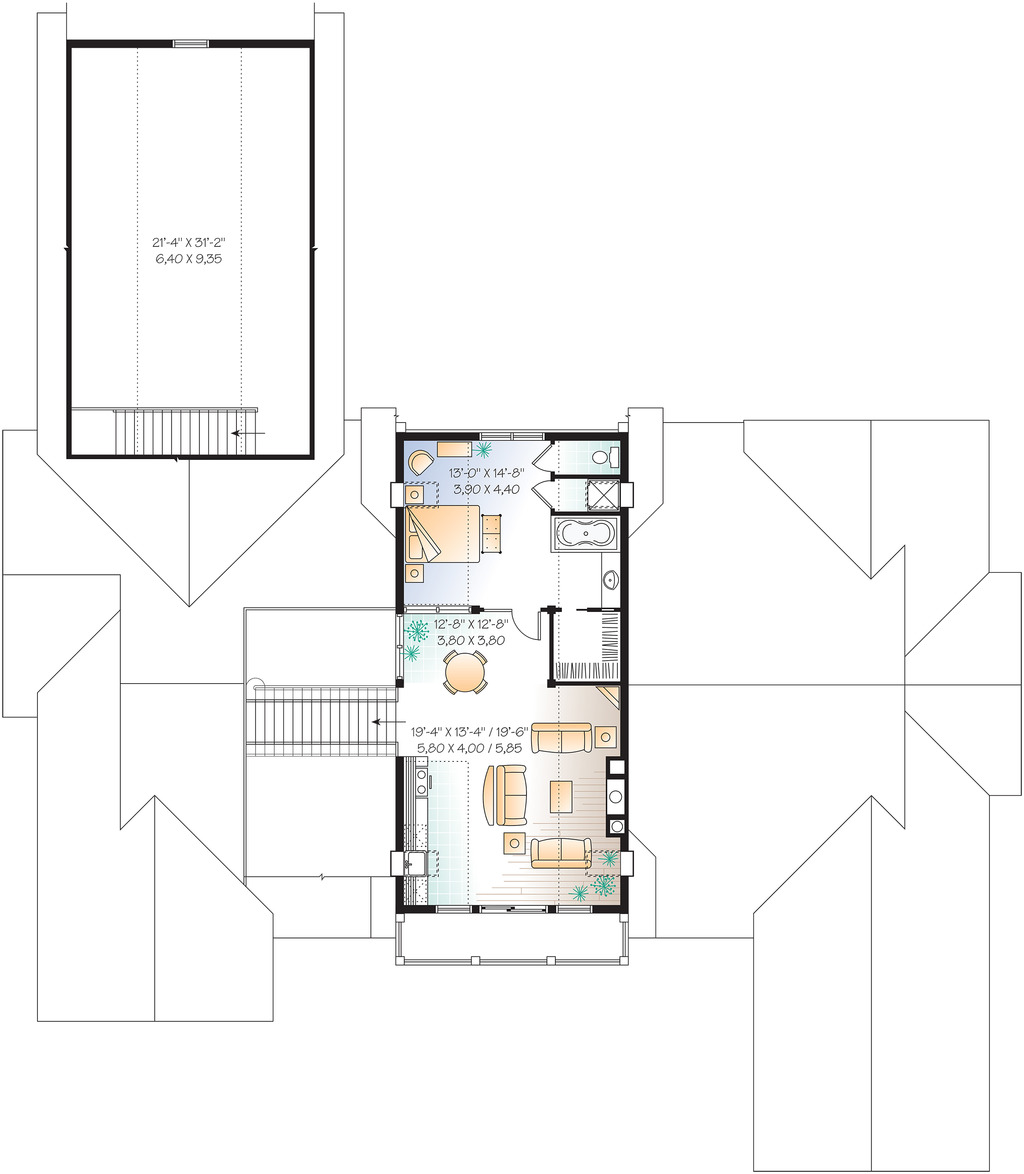bed: (403, 502, 483, 563)
door: (526, 472, 560, 510), (513, 609, 543, 640), (533, 444, 558, 472)
large_sink: (586, 449, 623, 469)
large_sofa: (525, 719, 590, 758), (493, 763, 530, 827), (531, 834, 593, 869)
round_table: (443, 649, 490, 697)
stairs: (243, 675, 400, 763), (68, 403, 266, 458)
tub: (548, 510, 623, 555)
windows: (426, 902, 596, 922), (473, 425, 553, 444)
